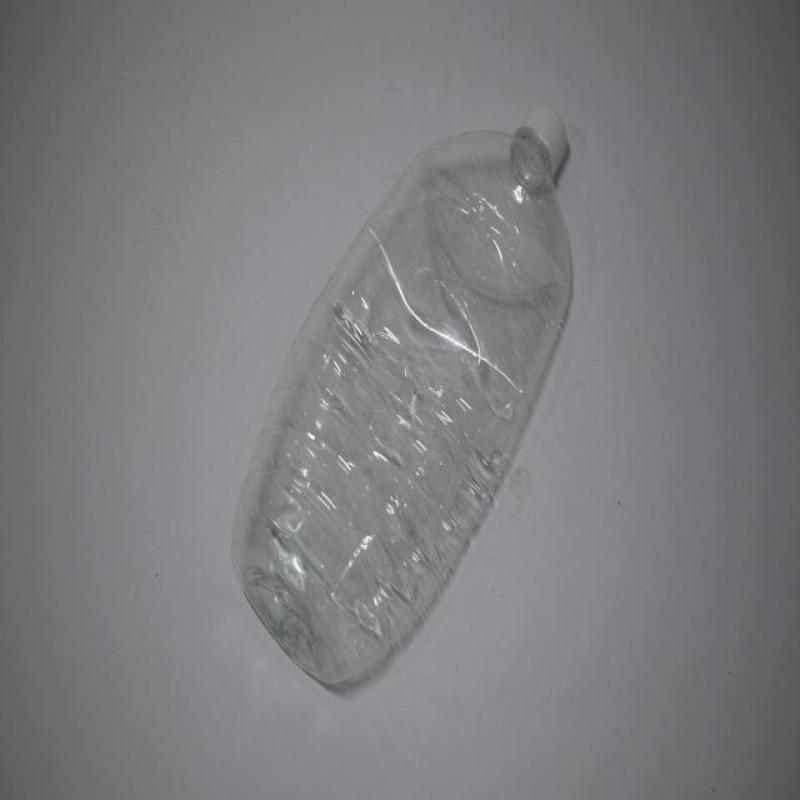botella: (226, 106, 578, 695)
